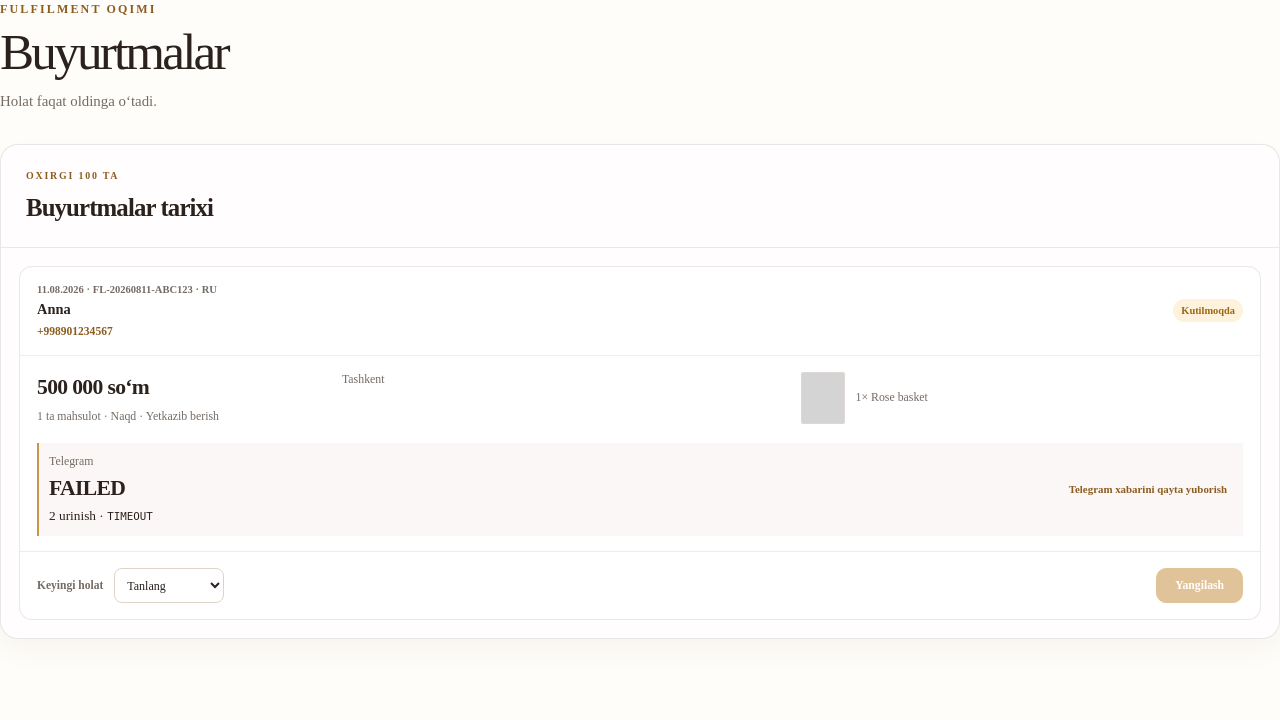
AdminOrdersPanel notifications › shows Telegram delivery status and retries without a modal
The image size is (1280, 720).
Check: the text "TIMEOUT" is shown, box [107,510,153,523]
Click the button "Telegram xabarini qayta yuborish": coordinates (1148, 490) [1063,472,1233,508]
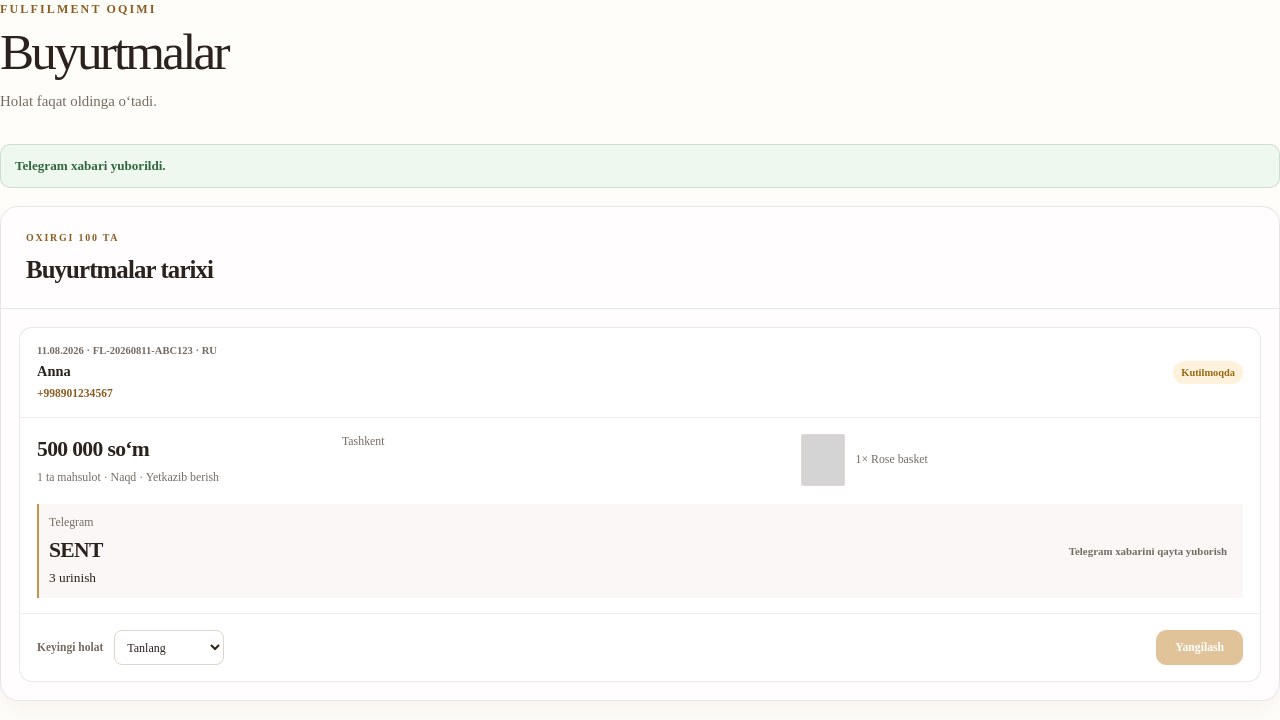
Check: the text "Telegram xabari yuborildi." is shown, box [0,144,1279,188]
